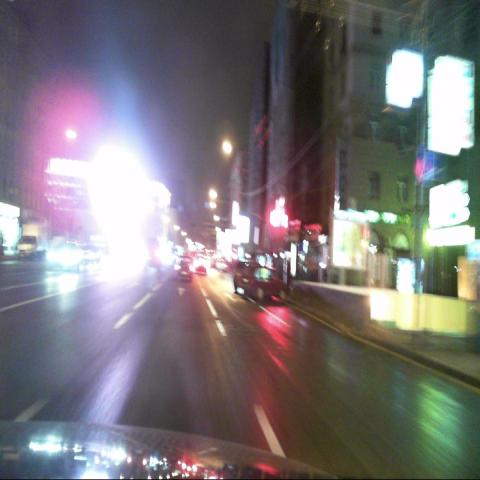6_6: (415, 151, 434, 182)
